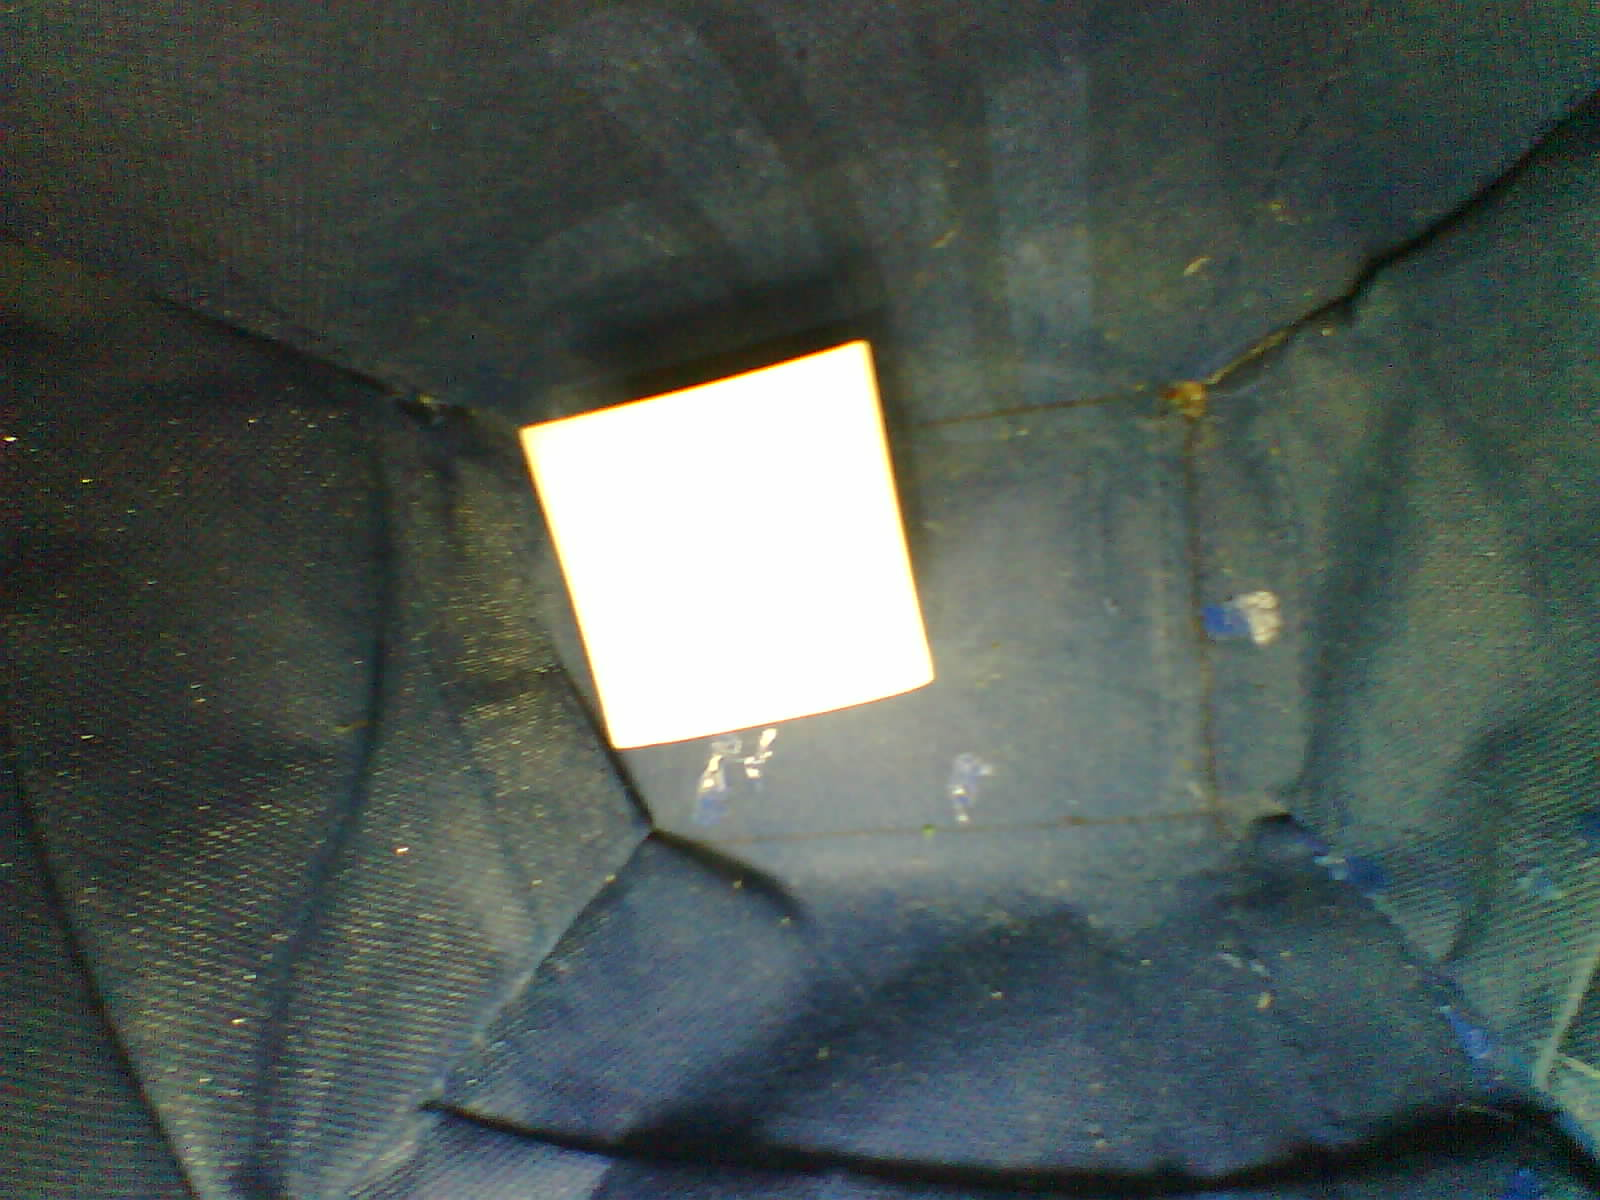cube-hard: (494, 314, 949, 779)
